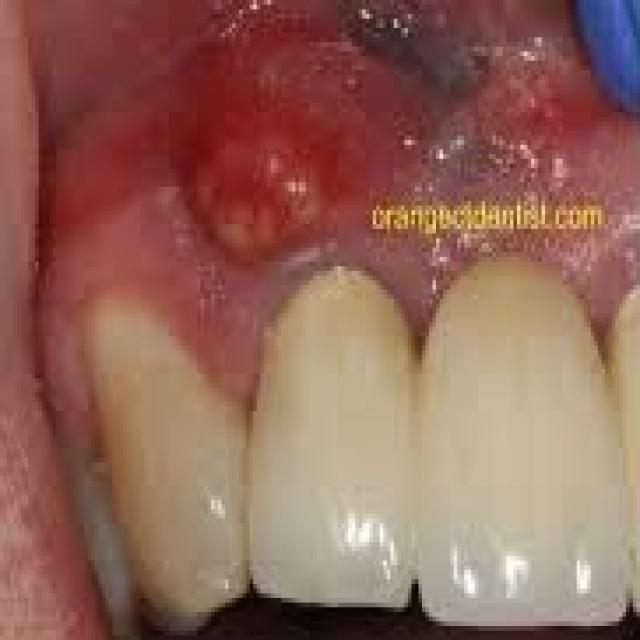abscess: (98, 75, 394, 258)
